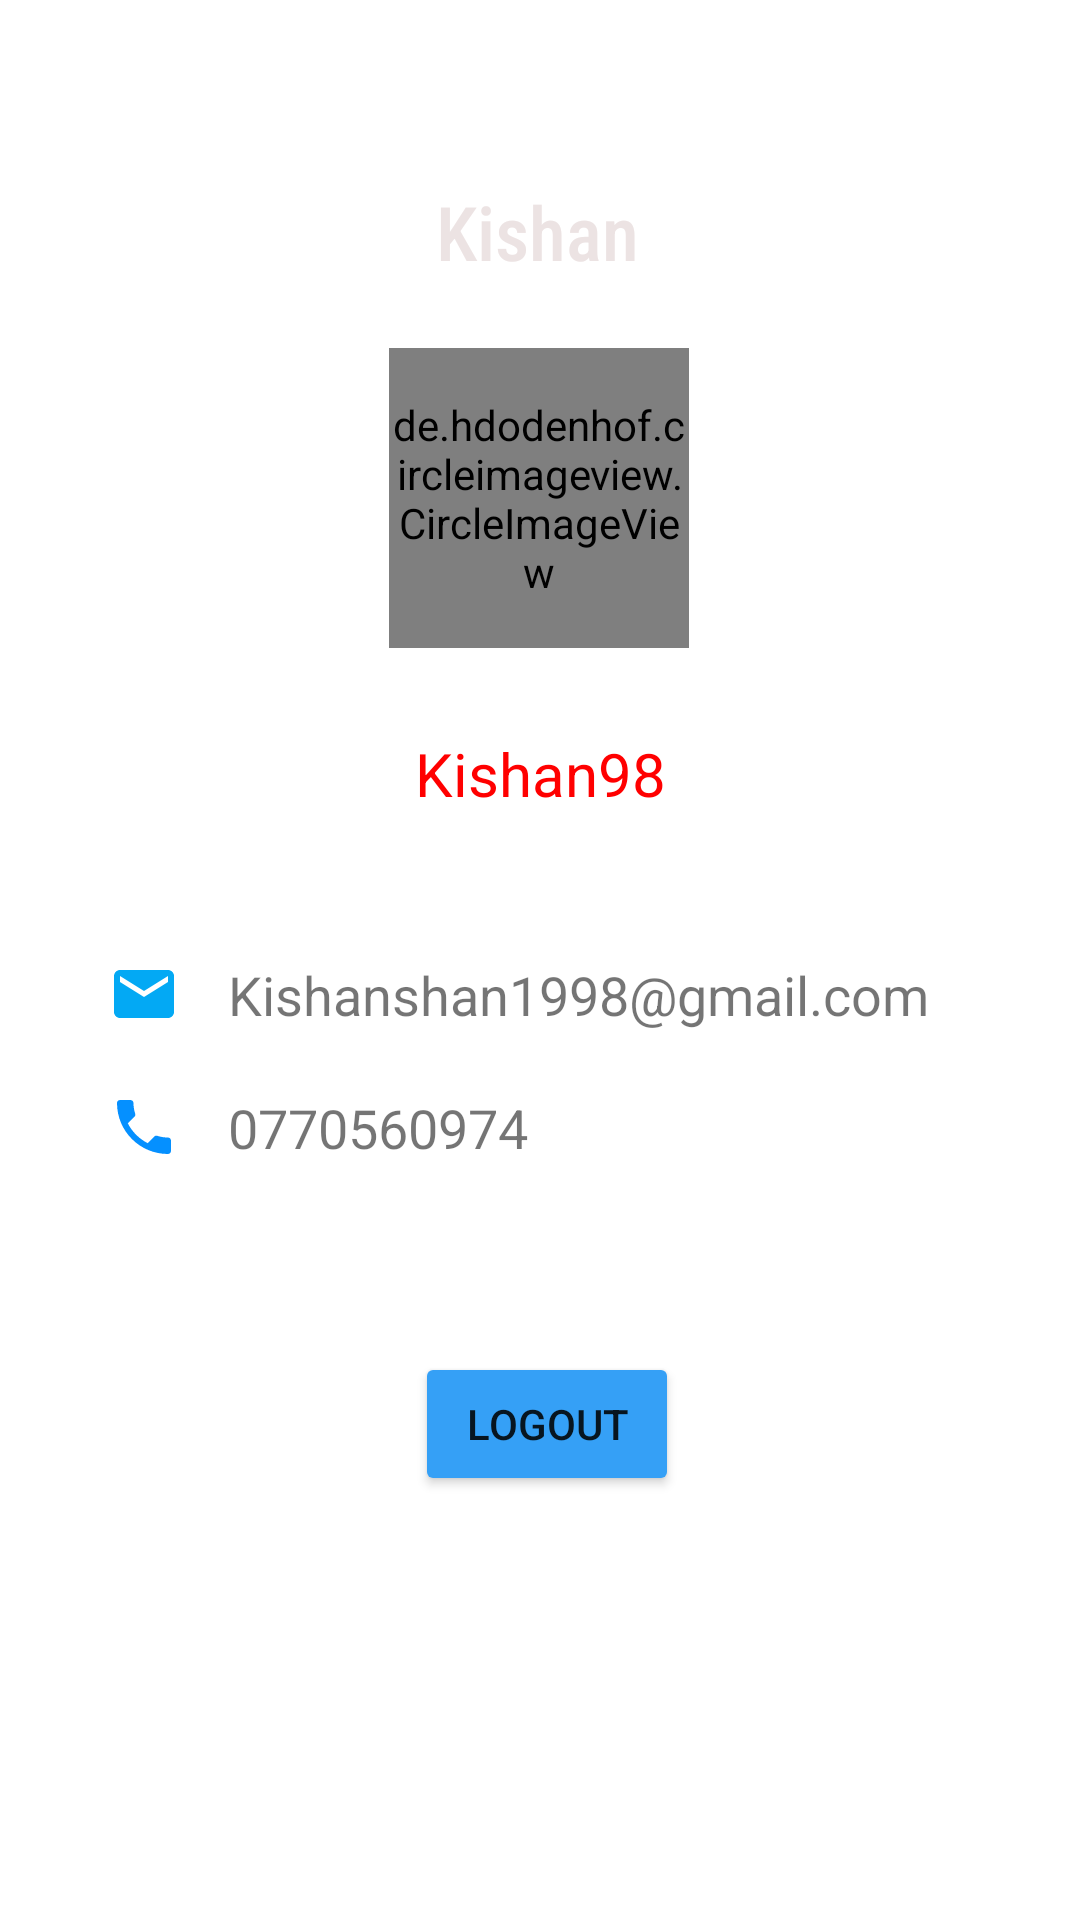

Screen size 1080 × 1920. Icon name, then its center in pixels as (x,y):
local phone: (144,1127)
